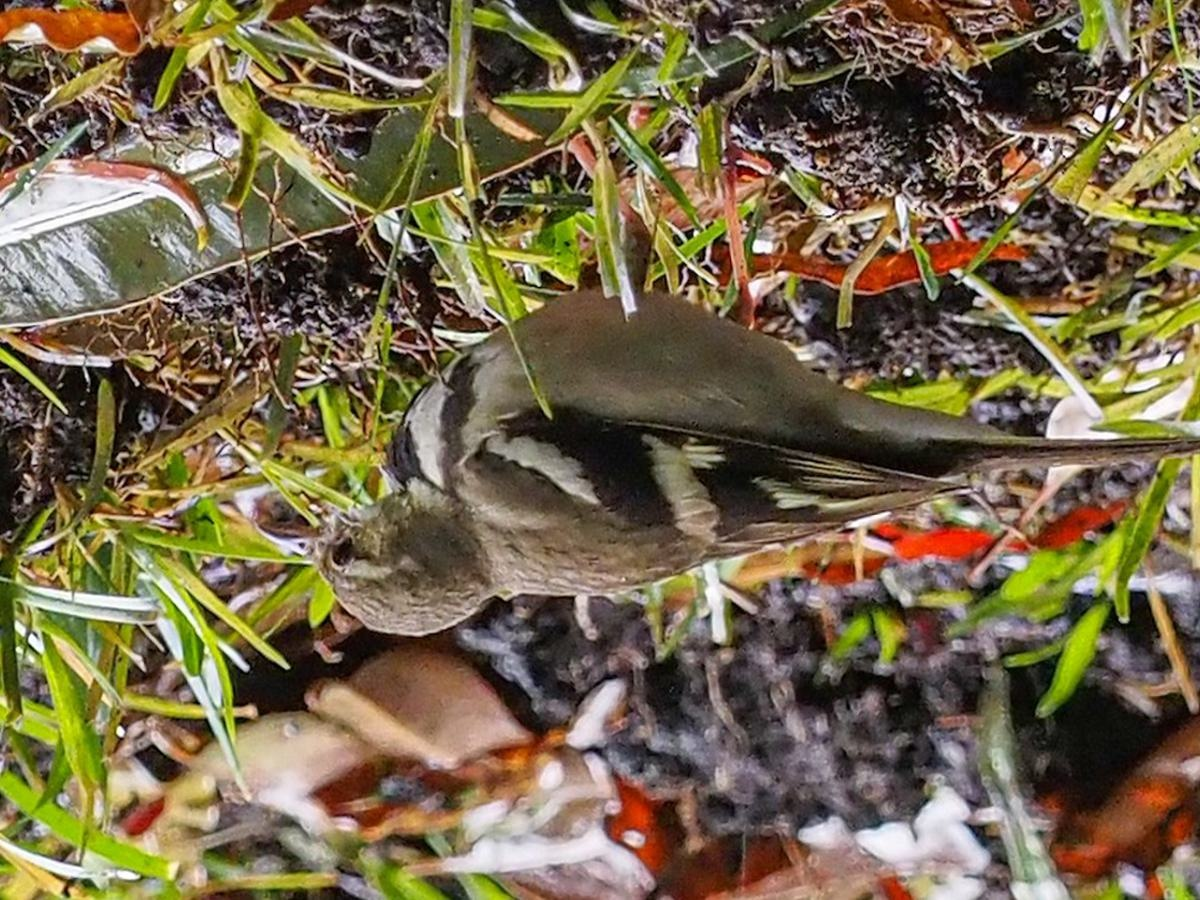wagtail: (324, 255, 1070, 641)
